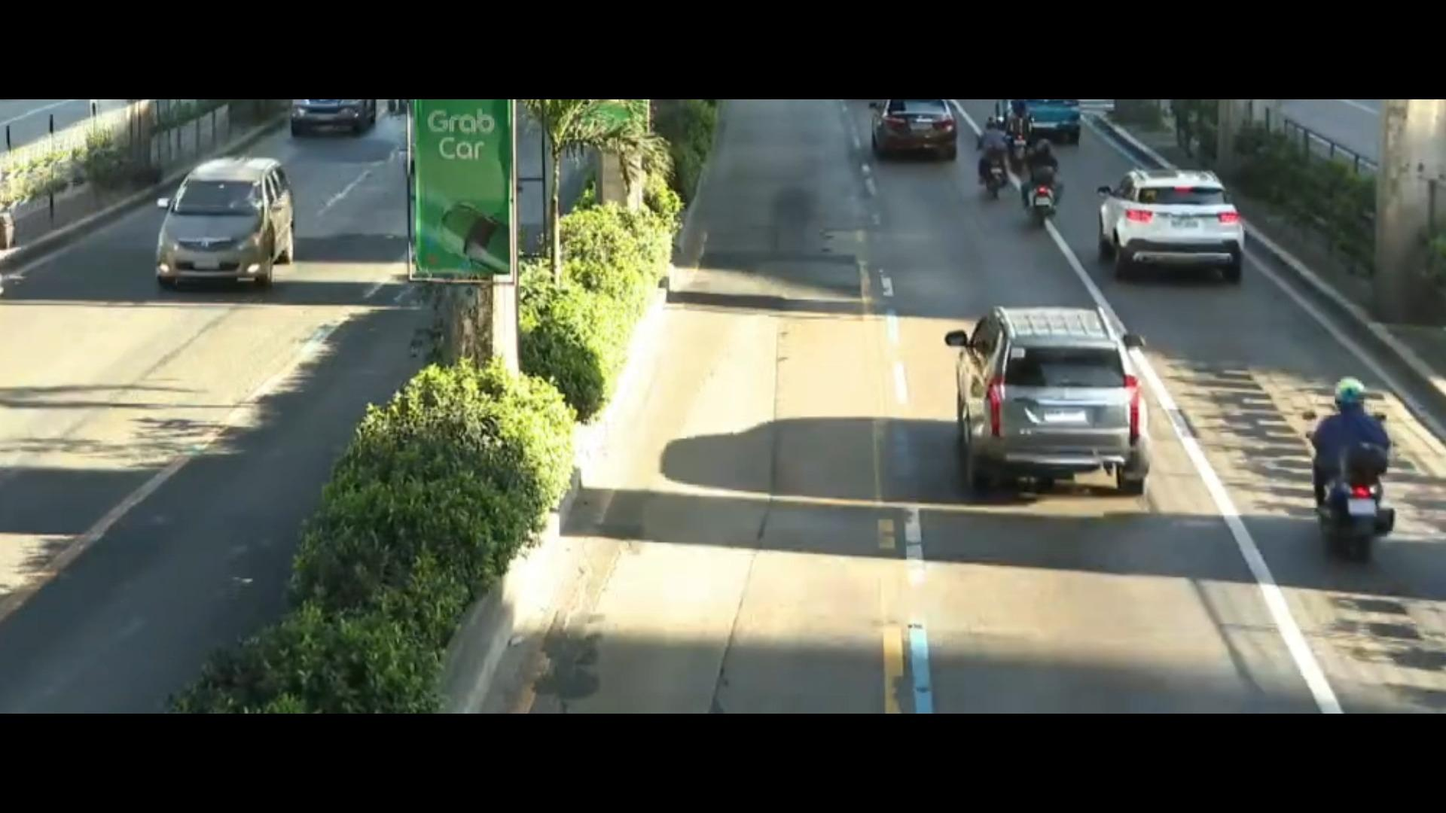Motorcycle: (1301, 364, 1399, 571), (1007, 142, 1072, 237), (981, 112, 1019, 198)
SUV: (923, 262, 1183, 509), (1087, 149, 1263, 315), (153, 147, 313, 318)
Sedan: (844, 98, 965, 177)
